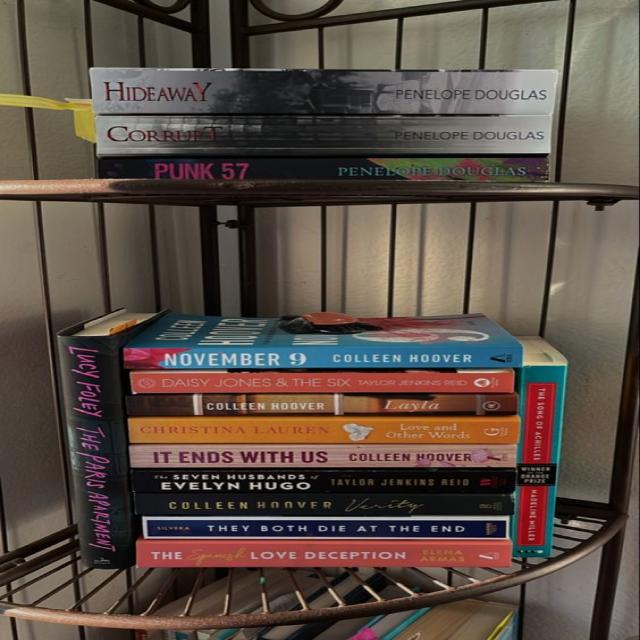book: (89, 69, 559, 114), (57, 334, 133, 569), (97, 116, 550, 153), (97, 159, 548, 182), (128, 418, 516, 443), (517, 365, 566, 558), (134, 541, 510, 565), (128, 469, 517, 492), (133, 495, 512, 518), (128, 446, 516, 468), (141, 517, 511, 540), (123, 349, 522, 369), (132, 372, 516, 392), (125, 395, 519, 414)
